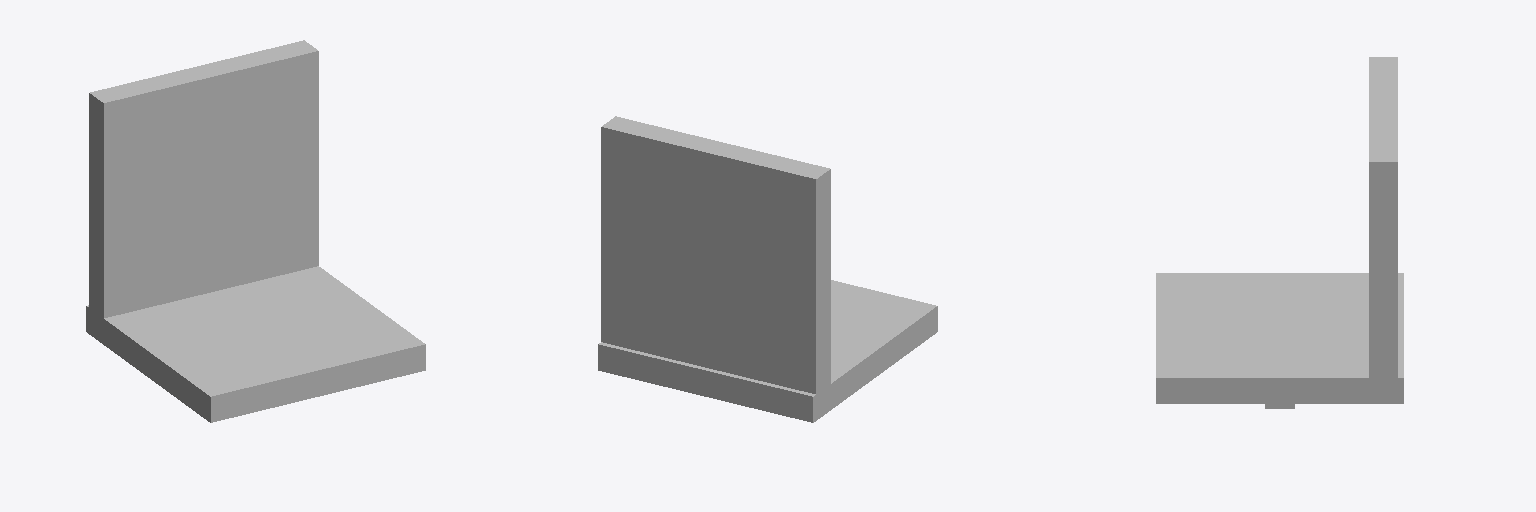
Rendered from Cadeira.obj.
3 views of the same model, side by side, from view 1: azimuth 30°, elevation 25°; view 2: azimuth 150°, elevation 25°; view 3: azimuth 270°, elevation 25° (orthographic).
Parts seen in each view (by area): view 1: Cadeira; view 2: Cadeira; view 3: Cadeira.
Part boxes in pixels (x1,y1,x2,y2): Cadeira: (86,40,425,422); Cadeira: (598,116,937,422); Cadeira: (1156,57,1403,408).
Bounding box in the file's own units: 1.61 × 2.09 × 1.61.